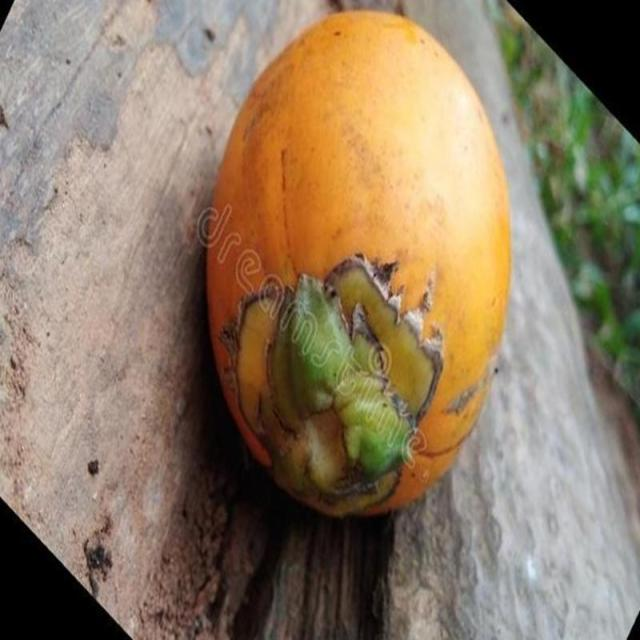good: (206, 12, 511, 523)
